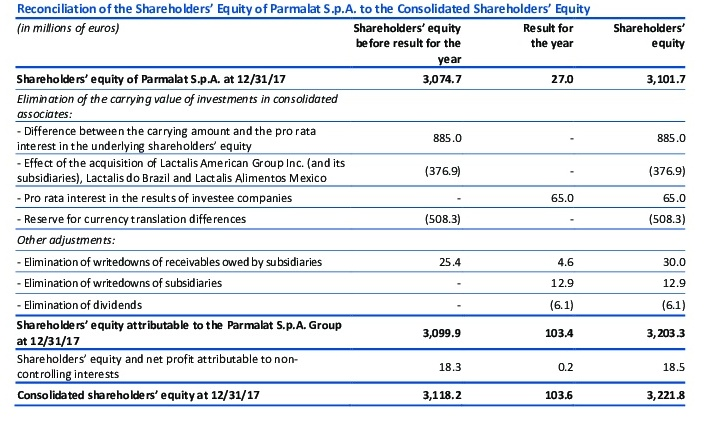table: (0, 0, 709, 424)
